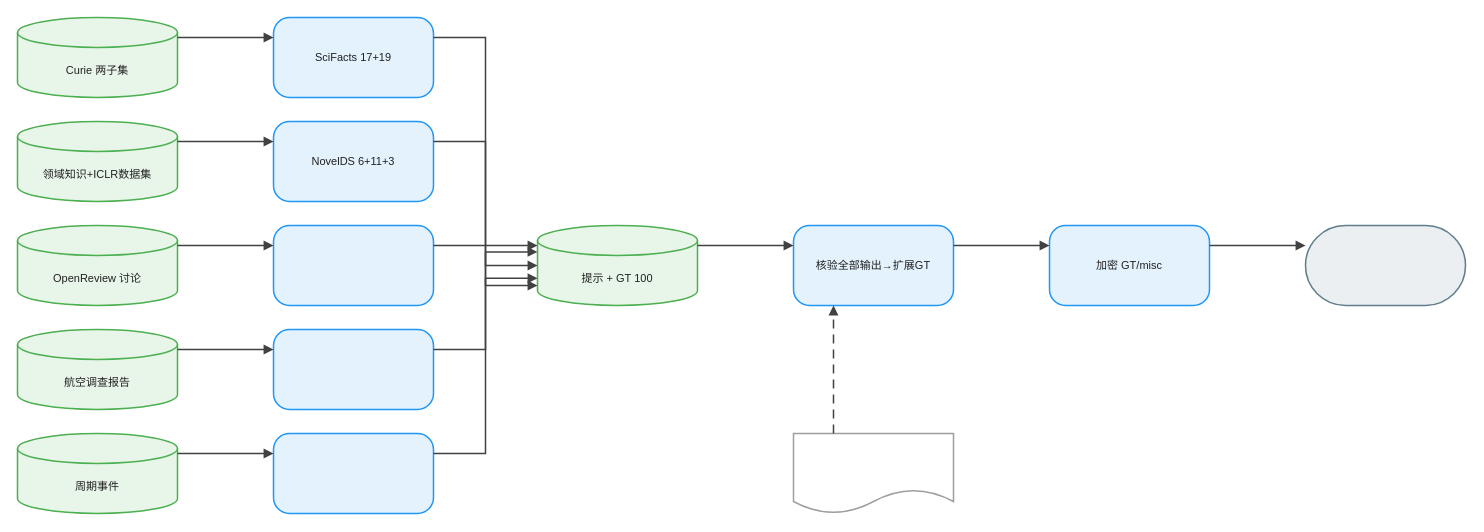
The diagram is 1484 pixels wide and 532 high, and some of its shapes have lost their labels. The centre of each missing label's shape, as x and y in pixels:
"v1-full test" belongs at pixel 1385 265.
"事故反演 7" belongs at pixel 353 369.
"合成摘要 17" belongs at pixel 353 265.
"爬取筛选 20" belongs at pixel 353 473.
"被测系统全部输出" belongs at pixel 873 473.
